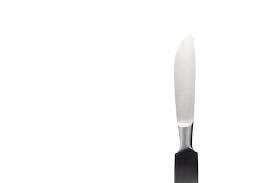Knife: (173, 33, 198, 182)
